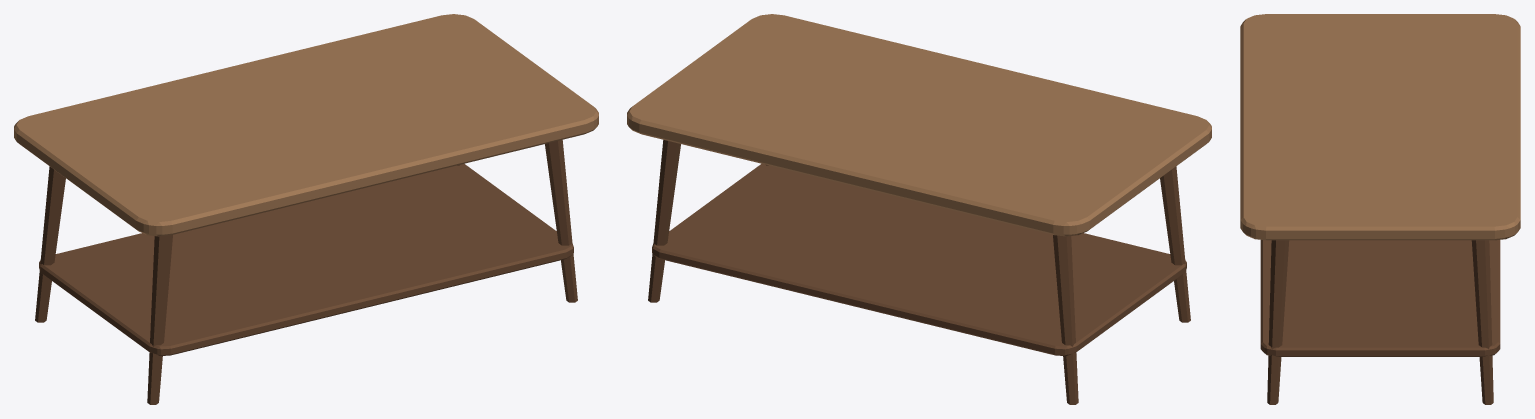
File: SM_Living_CoffeeTable.glb
3 views of the same model, side by side, from view 1: azimuth 30°, elevation 25°; view 2: azimuth 150°, elevation 25°; view 3: azimuth 270°, elevation 25° (orthographic). The views are drawn at different scales.
Parts seen in each view (by area): view 1: SM_Living_CoffeeTable; view 2: SM_Living_CoffeeTable; view 3: SM_Living_CoffeeTable.
Part boxes in pixels (x1,y1,x2,y2): SM_Living_CoffeeTable: (14,14,598,404); SM_Living_CoffeeTable: (627,14,1211,404); SM_Living_CoffeeTable: (1240,14,1520,404).
Bounding box in the file's own units: 1 × 0.4 × 0.55.
1 material, 1 textured.
